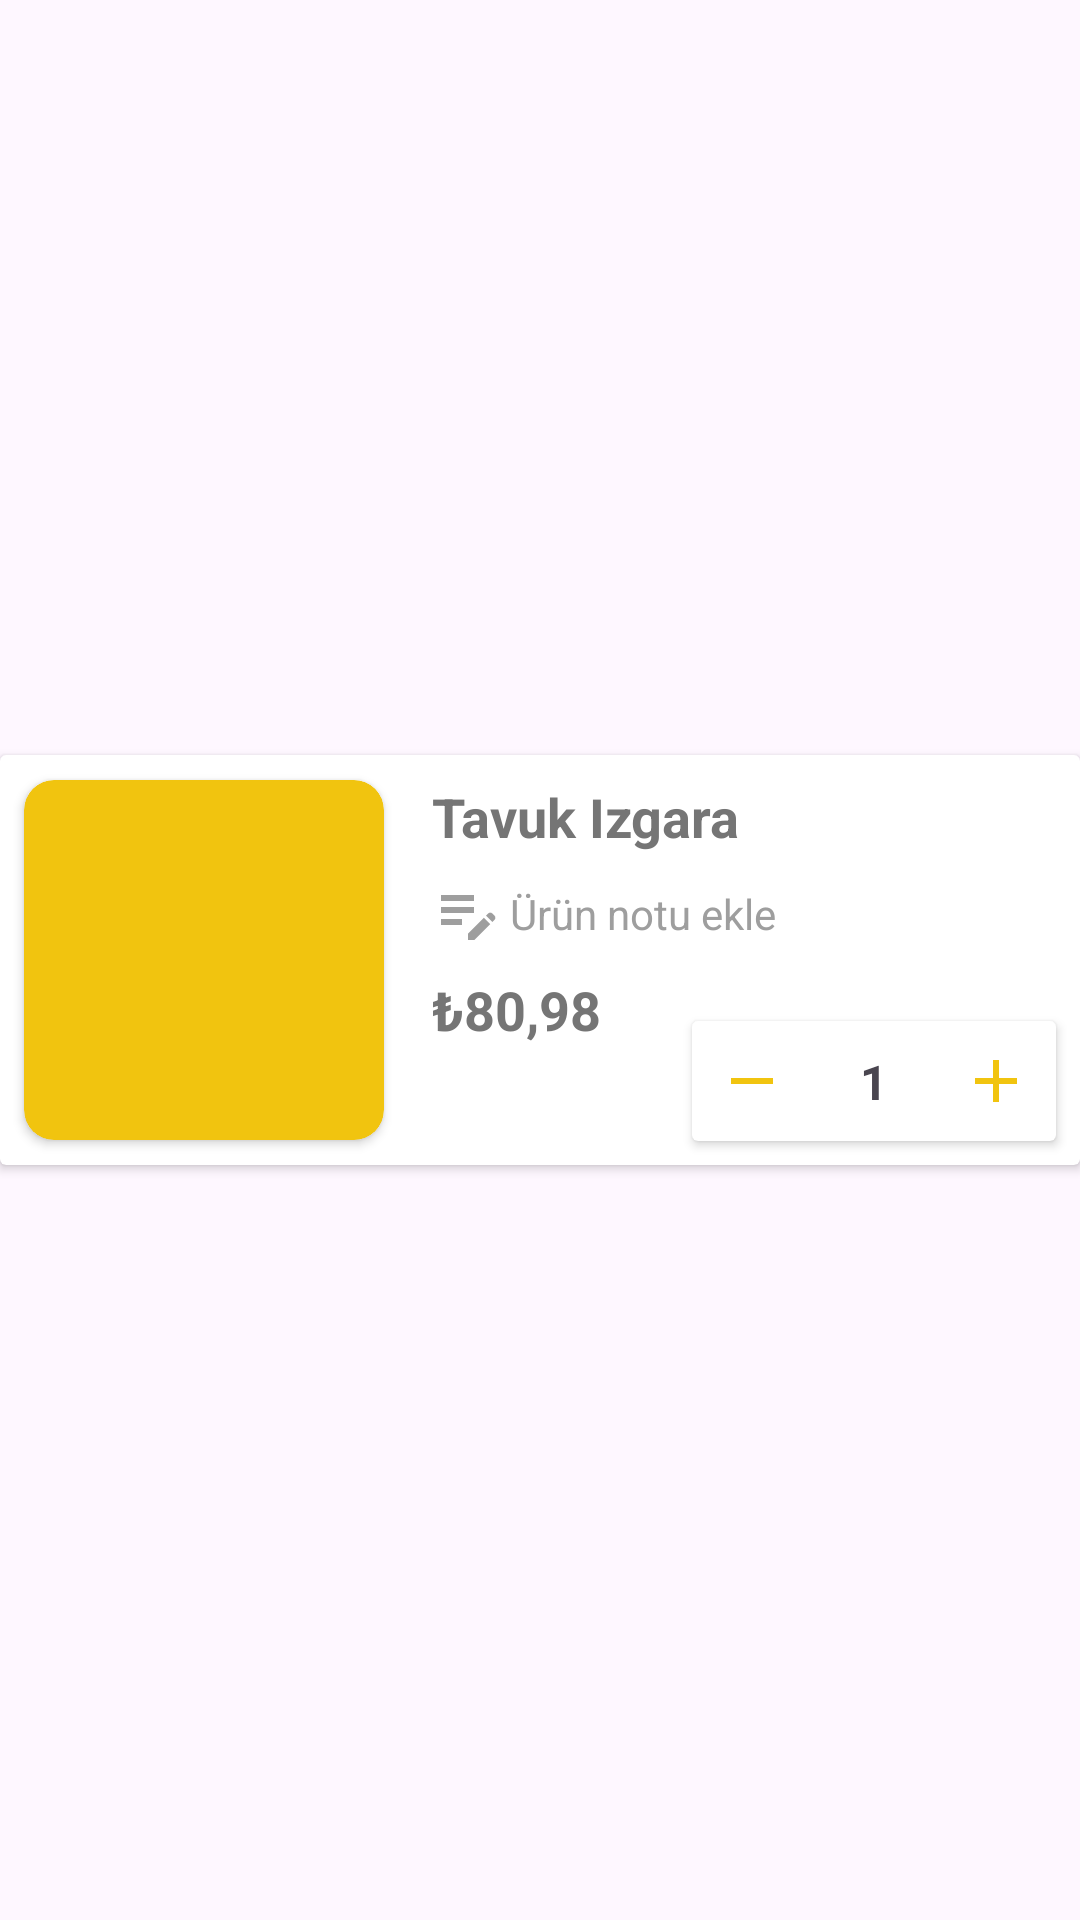

Screen size 1080x1920. Icon name, then its center in pixels as point (x, y):
checkout add: point (996, 1081)
edit note: point (468, 917)
